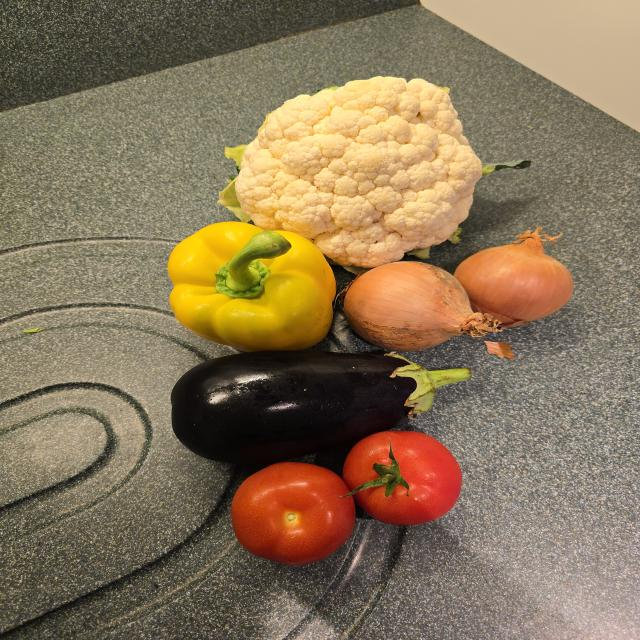Bell Pepper: (168, 222, 335, 352)
Cauliflower: (235, 77, 481, 267)
Eggplant: (170, 349, 469, 464)
Onion: (343, 262, 511, 351), (454, 227, 573, 327)
Tomato: (231, 462, 355, 565), (342, 431, 461, 525)
